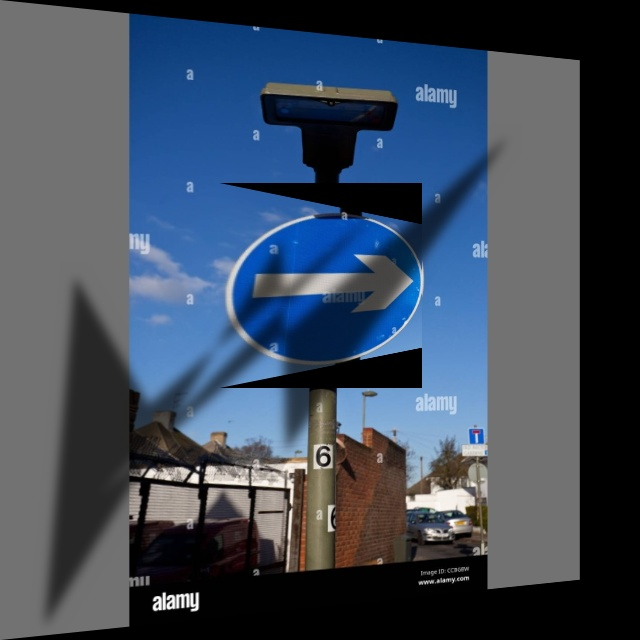Compulsory_Turn_Right: (219, 183, 422, 388)
